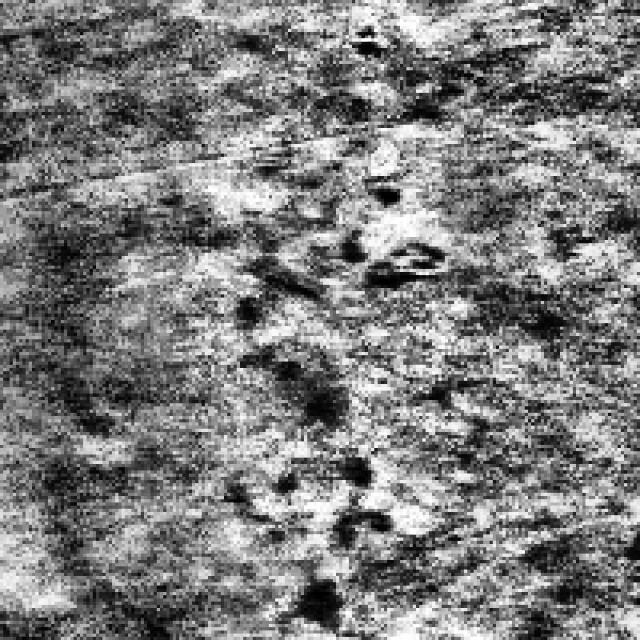Crazing: (234, 176, 438, 634)
